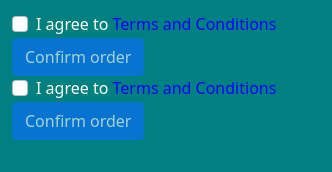
Test: Checkbox enables button › Unchecking checkbox again disables button
Expected: the 1st button "Confirm order" is disabled, [12,38,144,76]
Step 1. Click the checkbox labelled "I agree to Terms and Conditions" → (20, 24), box [12,16,28,32]
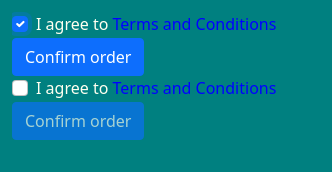
Expected: the 1st button "Confirm order" is enabled, [12,38,144,76]
Step 2. Click the checkbox labelled "I agree to Terms and Conditions" → (20, 24), box [12,16,28,32]
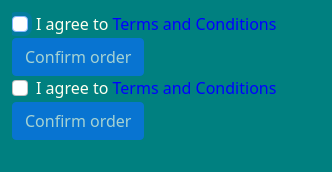
Expected: the 1st button "Confirm order" is disabled, [12,38,144,76]
